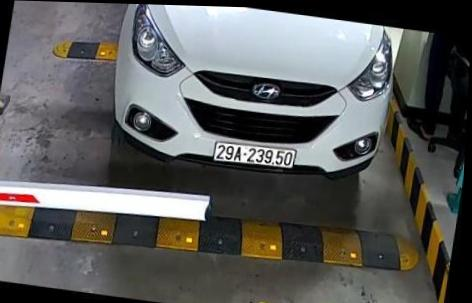License_Plate: (208, 140, 300, 177)
